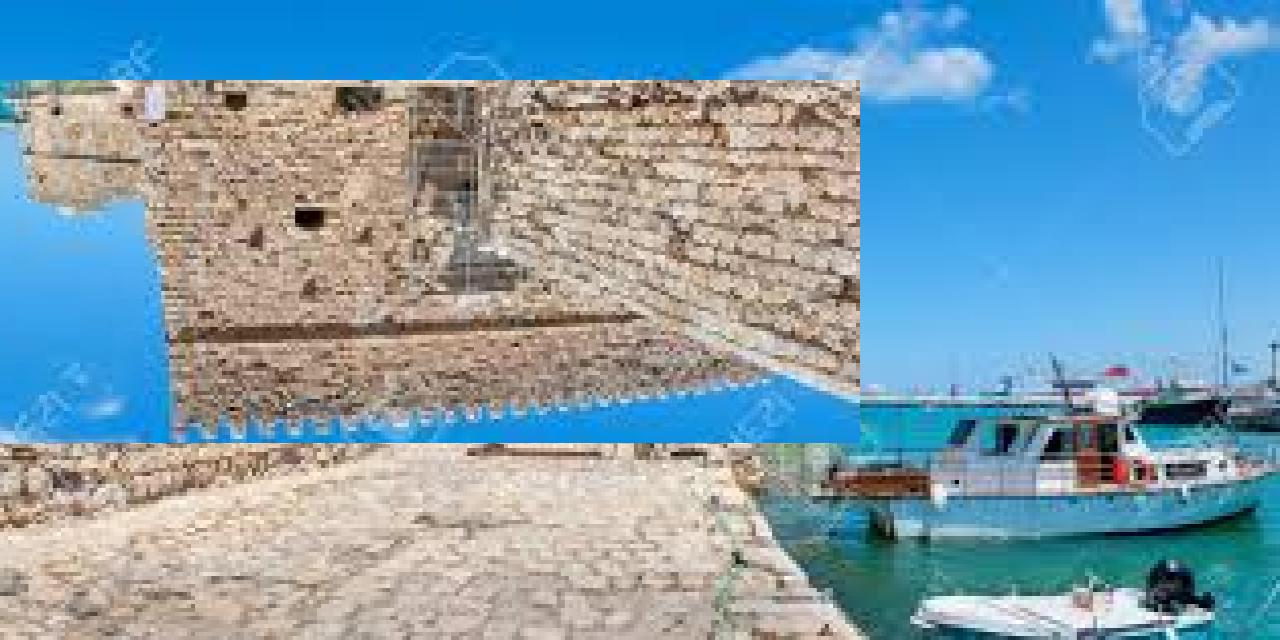Kules: (1, 81, 861, 444)
